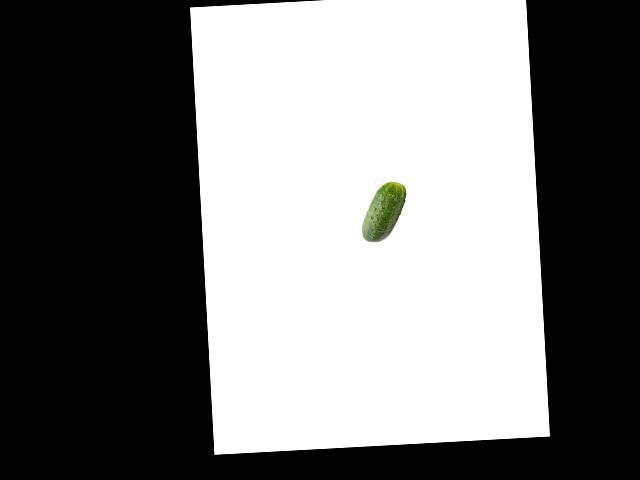cucumber: (359, 181, 408, 243)
